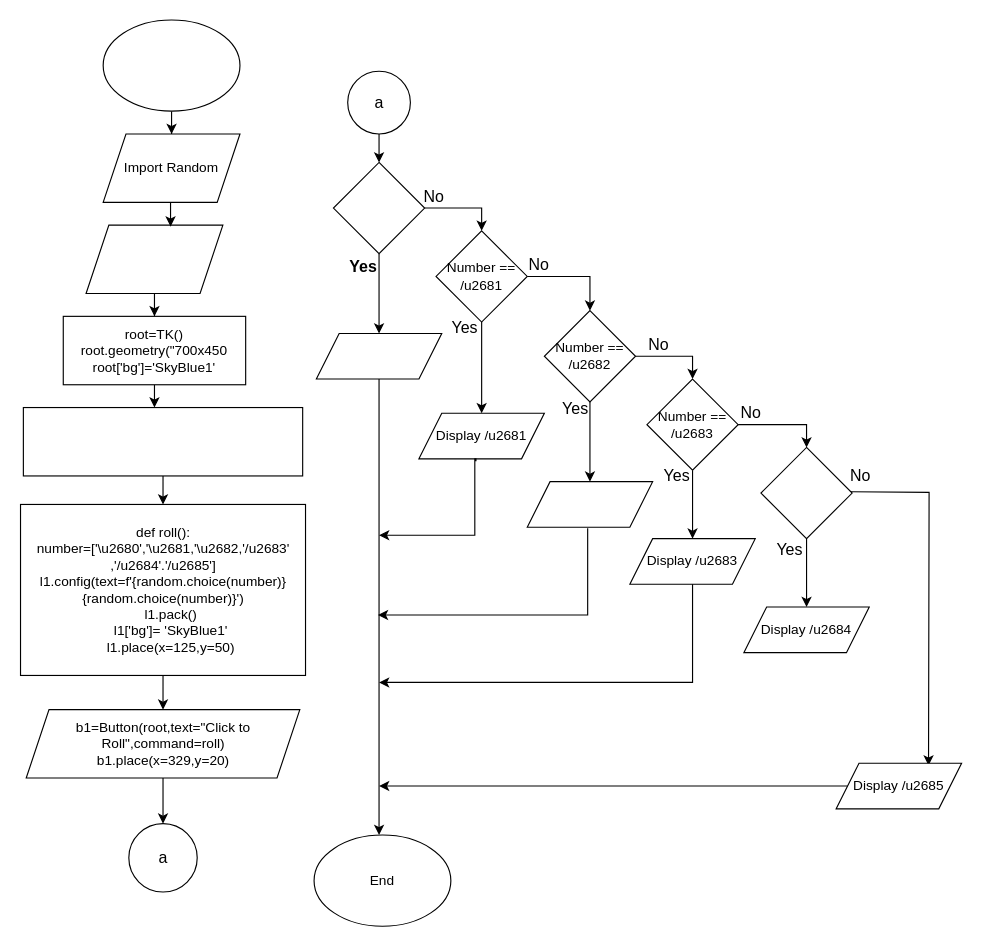
This 982x946 diagram has some shape labels left out. The centre of each missing label's shape, as x and y in pixels:
Display /u2680: (x=378, y=355)
Display /u2682: (x=589, y=504)
Import Tkinter: (x=154, y=259)
l1=Label(root,text=",font=("times",200)): (x=162, y=441)
Number == /u2680: (x=378, y=207)
Number == /u2684: (x=806, y=492)
Start: (x=171, y=65)
